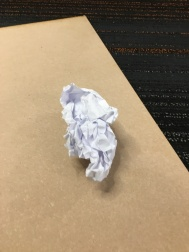paper_white: (46, 78, 126, 190)
